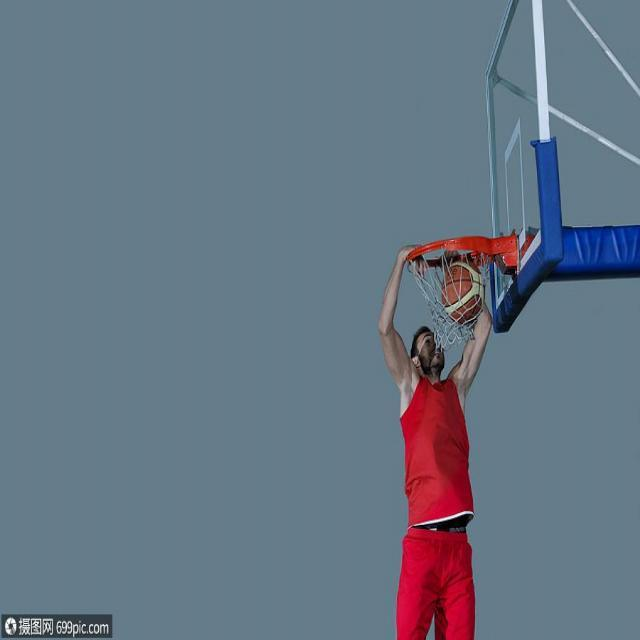rim: (439, 257, 485, 323)
